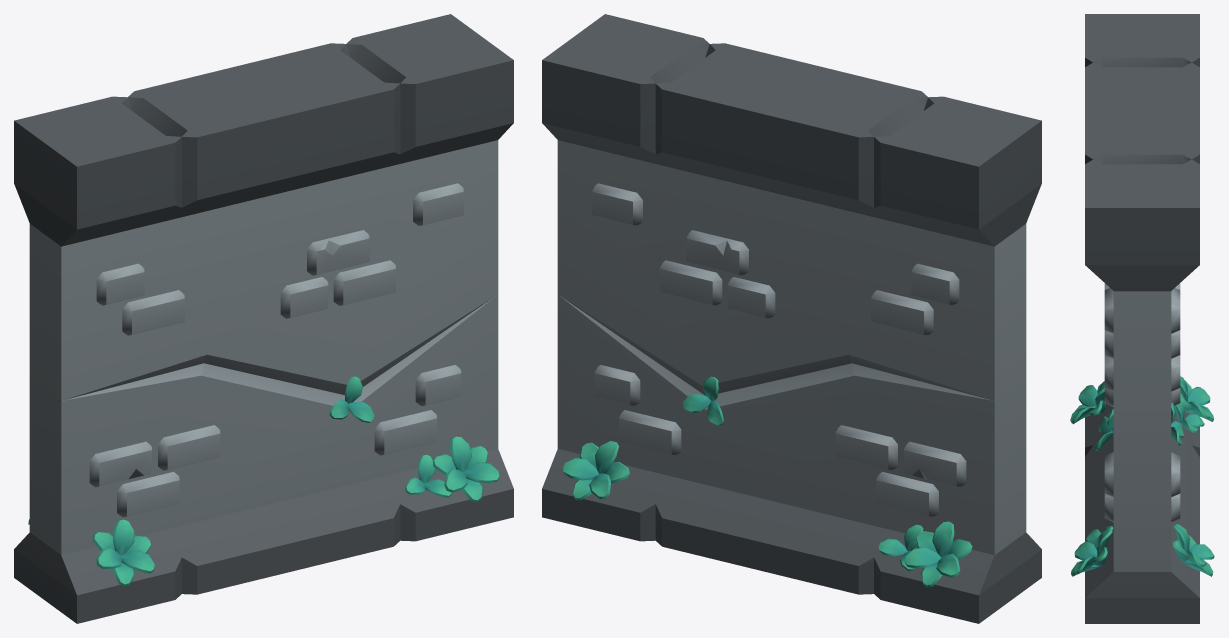
Rendered from wall_str2.fbx.
The picture shows the model from 3 angles, left to right: view 1: azimuth 30°, elevation 25°; view 2: azimuth 150°, elevation 25°; view 3: azimuth 270°, elevation 25°; orthographic projection. The views are drawn at different scales.
Visible parts, largest first — view 1: wall_cracked; view 2: wall_cracked; view 3: wall_cracked.
Boxes of the visible parts, bbox=[...] form: wall_cracked: bbox=[14, 14, 513, 623]; wall_cracked: bbox=[542, 14, 1041, 623]; wall_cracked: bbox=[1070, 14, 1214, 623].
Bounding box in the file's own units: 400 × 400 × 126.
1 material, 1 textured.
